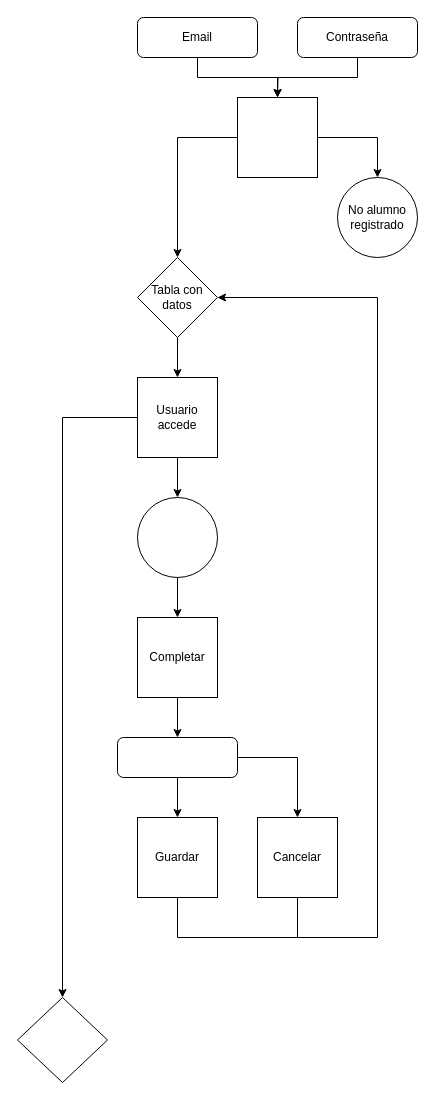
This 435x1100 diagram has some shape labels left out. Here are the shapes that lost their labels. From the top down, the centre of each, then its label:
At (x=277, y=137): "Iniciar sesión".
At (x=177, y=537): "Nuevo alumno".
At (x=177, y=757): "Datos".
At (x=62, y=1039): "Visualizador perfil".
